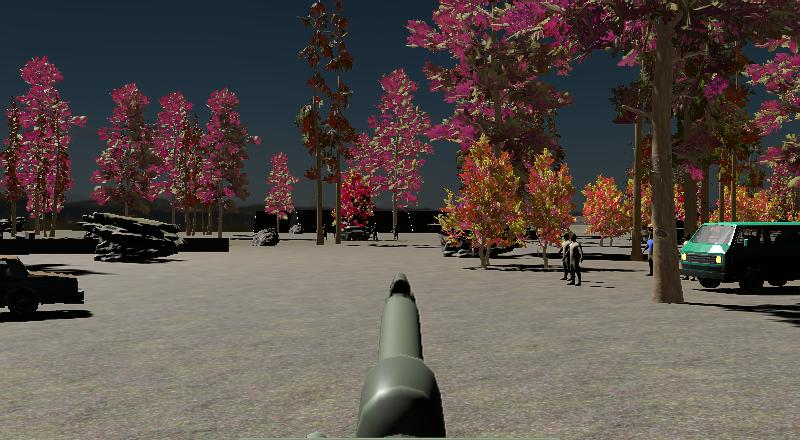Human: (564, 231, 585, 287), (558, 229, 575, 283), (642, 231, 658, 278), (642, 230, 657, 278)
car: (678, 220, 800, 293), (0, 254, 86, 322)
